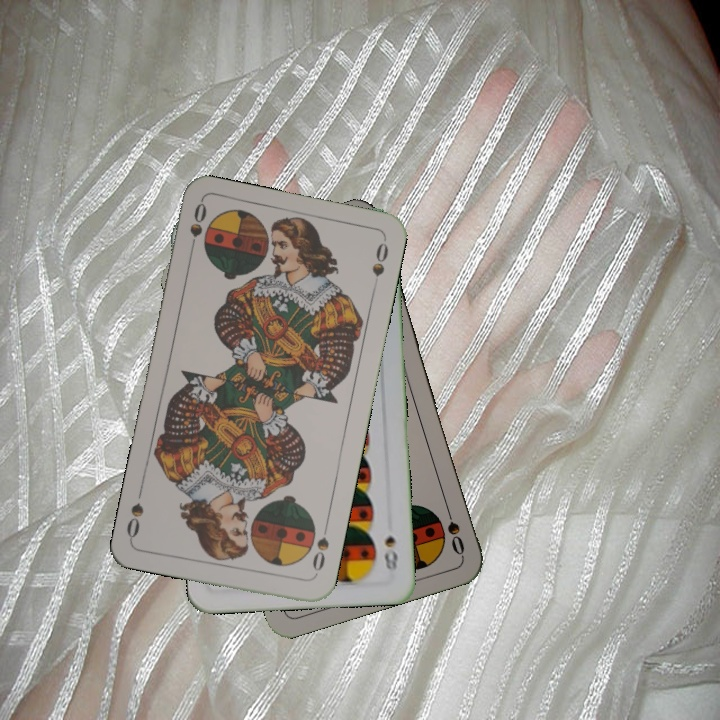S8: (380, 532, 401, 574)
SO: (441, 500, 467, 558), (185, 199, 210, 258), (308, 521, 332, 579)
